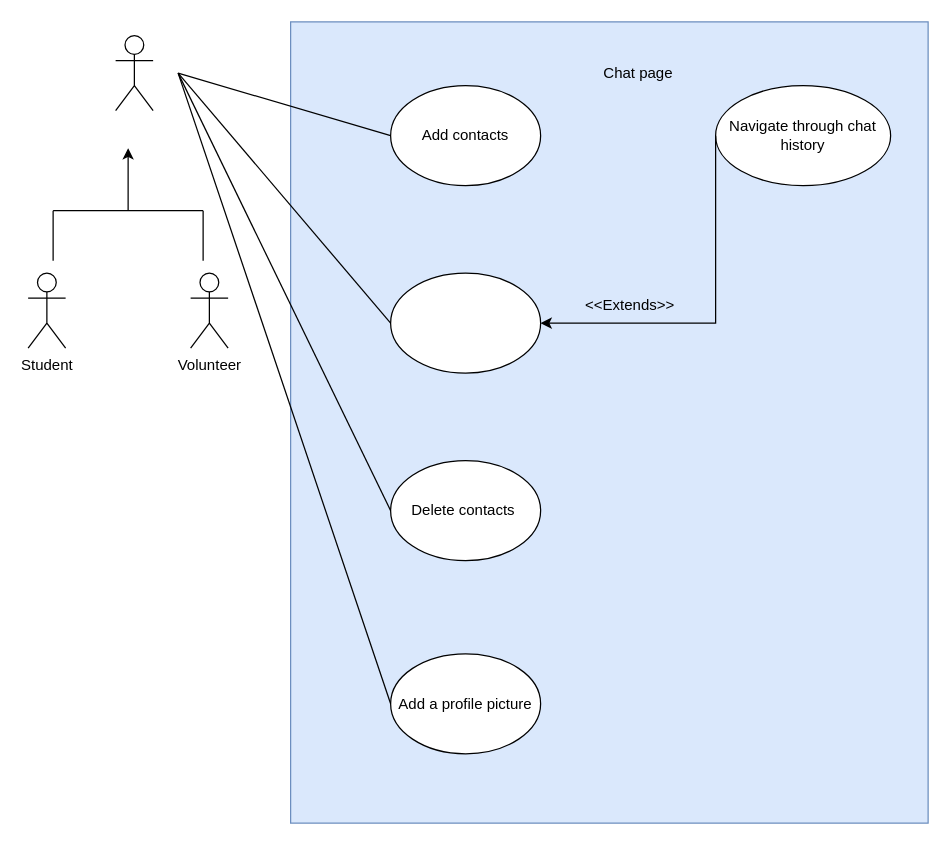
The diagram is 950 pixels wide and 845 high, and some of its shapes have lost their labels. Here are the shapes that lost their labels. From the top down, the centre of each, then its label:
[133,72]: User
[465,322]: Send and receive messages
